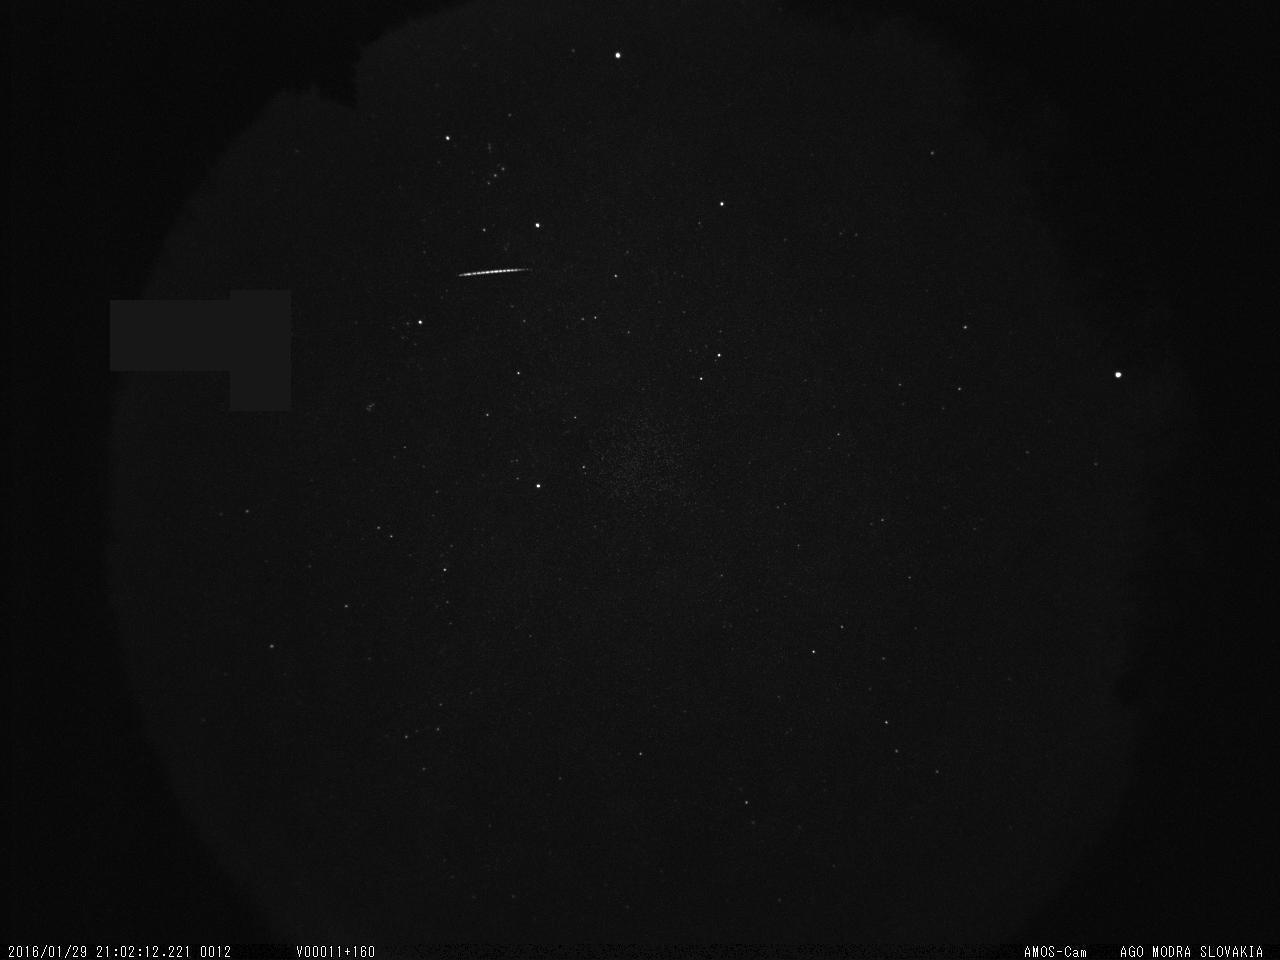Meteor: (456, 264, 531, 280)
